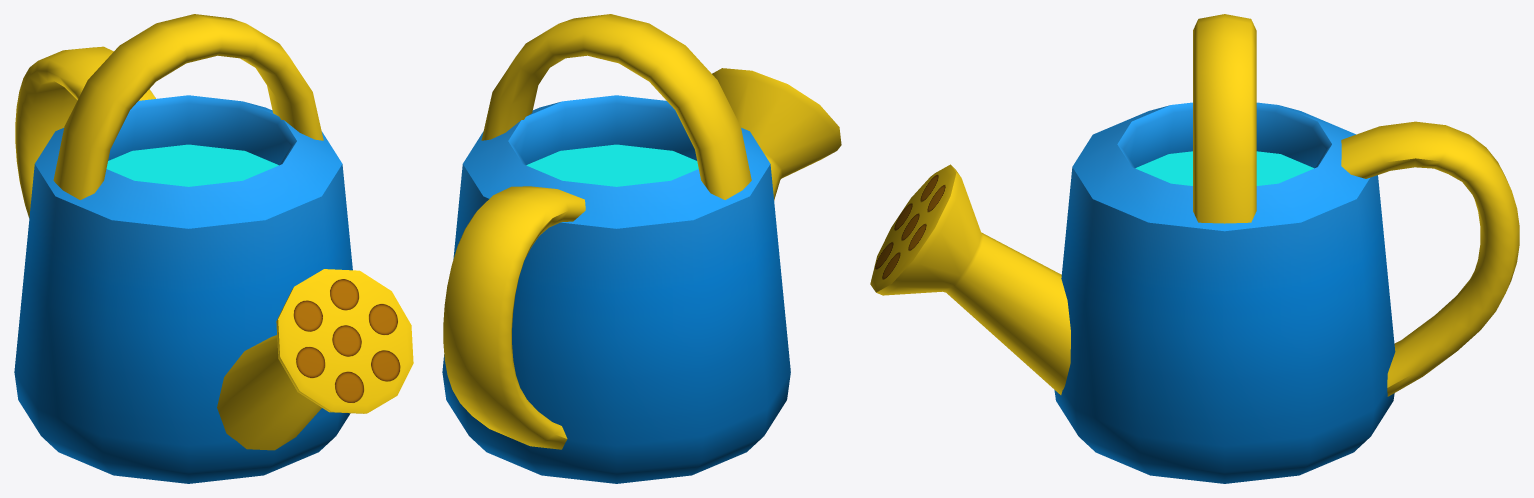
File: Farm_Tool_Watering_Pot_01.fbx
3 views of the same model, side by side, from view 1: azimuth 30°, elevation 25°; view 2: azimuth 150°, elevation 25°; view 3: azimuth 270°, elevation 25° (orthographic).
Visible parts, largest first — view 1: Farm_Tool_Watering_Pot_01; view 2: Farm_Tool_Watering_Pot_01; view 3: Farm_Tool_Watering_Pot_01.
Part boxes in pixels (box(x1,y1,x2,y2)): Farm_Tool_Watering_Pot_01: box(14, 14, 413, 483); Farm_Tool_Watering_Pot_01: box(442, 14, 841, 483); Farm_Tool_Watering_Pot_01: box(870, 14, 1519, 483).
Size of the model in its own units: 41.45 by 52.99 by 77.97.
